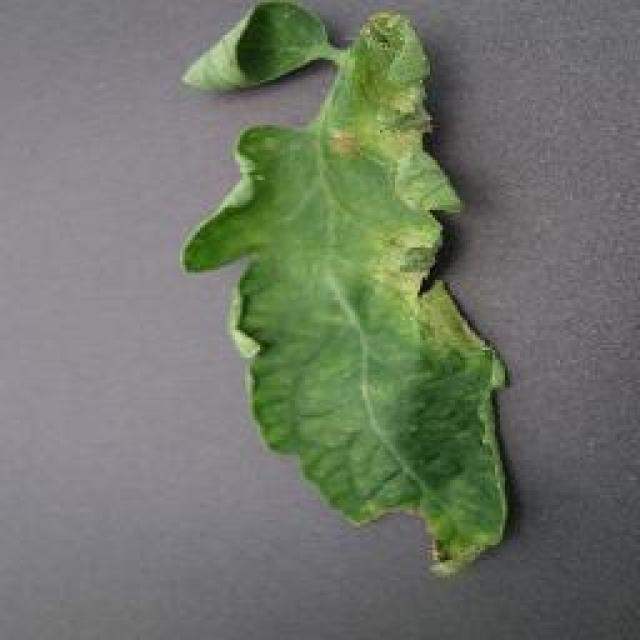Tomato Late Blight: (328, 25, 492, 572)
